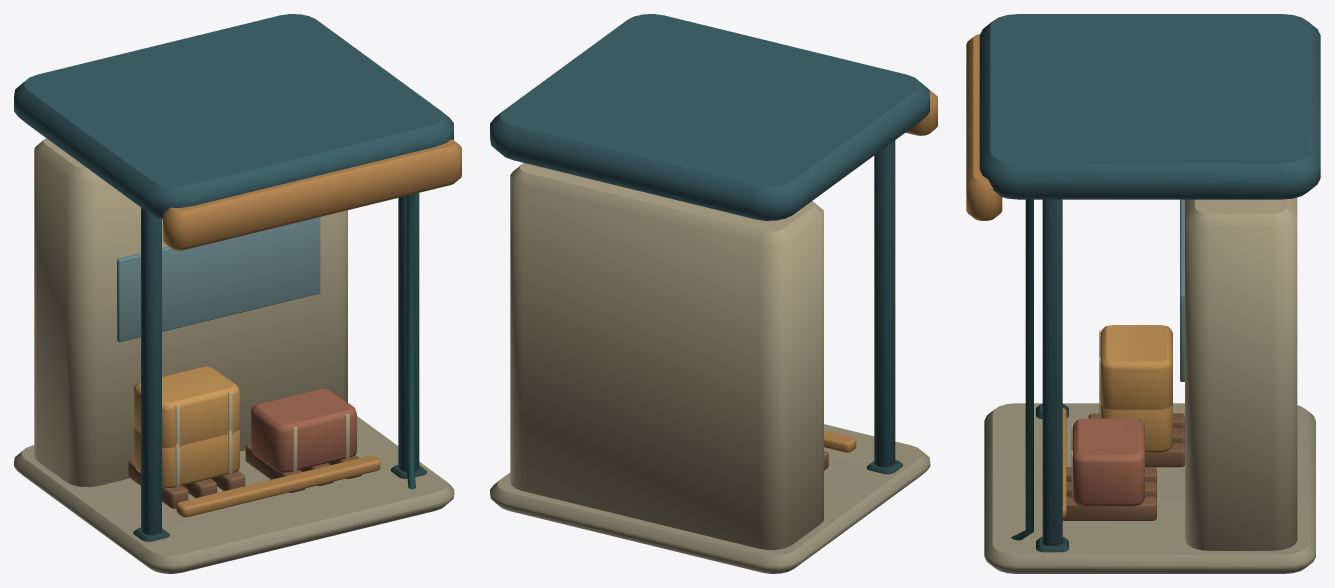
File: annex_truck_5.glb
The picture shows the model from 3 angles, left to right: view 1: azimuth 30°, elevation 25°; view 2: azimuth 150°, elevation 25°; view 3: azimuth 270°, elevation 25°; orthographic projection. The views are drawn at different scales.
Parts seen in each view (by area): view 1: AnnexTruck5; view 2: AnnexTruck5; view 3: AnnexTruck5.
Boxes of the visible parts, bbox=[...] form: AnnexTruck5: bbox=[14, 14, 461, 573]; AnnexTruck5: bbox=[490, 14, 937, 573]; AnnexTruck5: bbox=[966, 14, 1320, 573].
Size of the model in its own units: 2.8 by 3.38 by 2.65.
